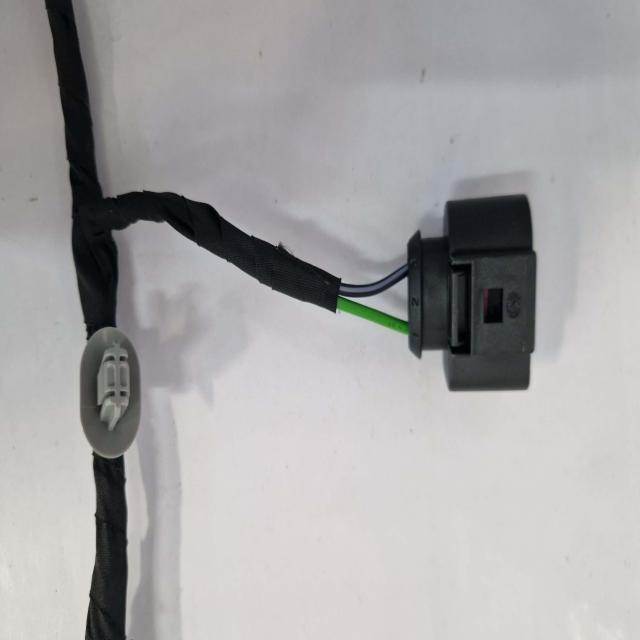Clip: (75, 321, 144, 466)
Connector: (405, 185, 545, 398)
Gape: (334, 263, 412, 341)
MHEV_N11_Cable: (53, 27, 361, 338), (83, 447, 130, 640)
